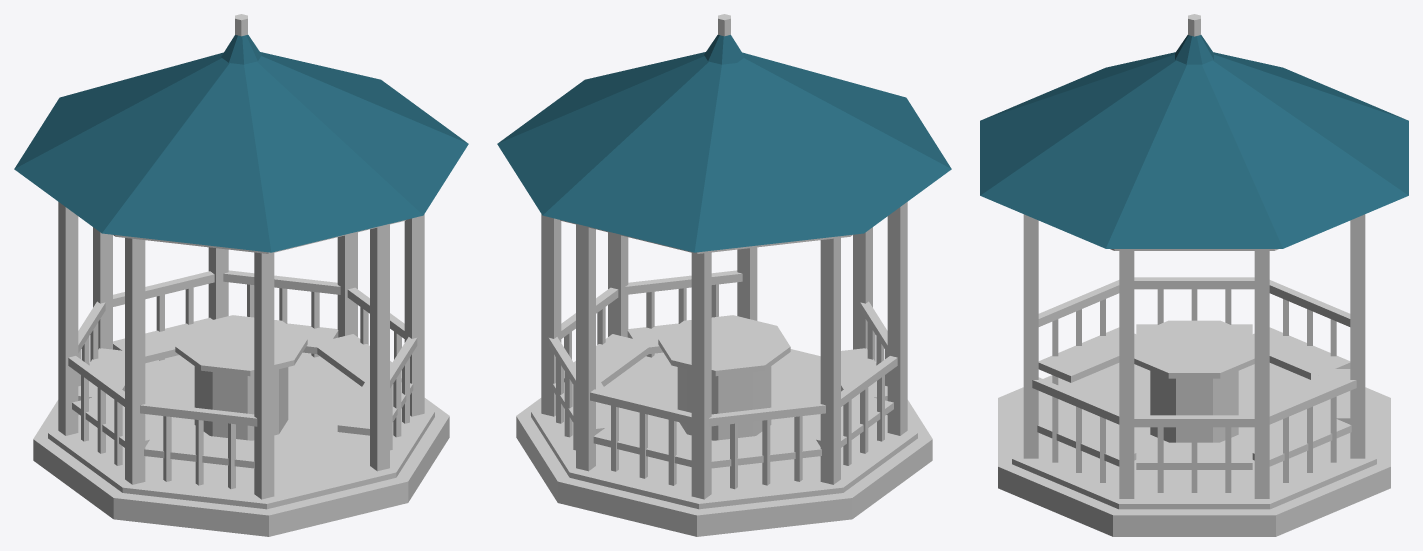
Rendered from decor_gazebo.obj.
3 views of the same model, side by side, from view 1: azimuth 30°, elevation 25°; view 2: azimuth 150°, elevation 25°; view 3: azimuth 270°, elevation 25° (orthographic).
Visible parts, largest first — view 1: Body; view 2: Body; view 3: Body.
Part boxes in pixels (box(x1,y1,x2,y2)): Body: box(14, 14, 468, 536); Body: box(497, 14, 951, 536); Body: box(980, 14, 1408, 536).
Size of the model in its own units: 2.86 by 3.22 by 2.86.
